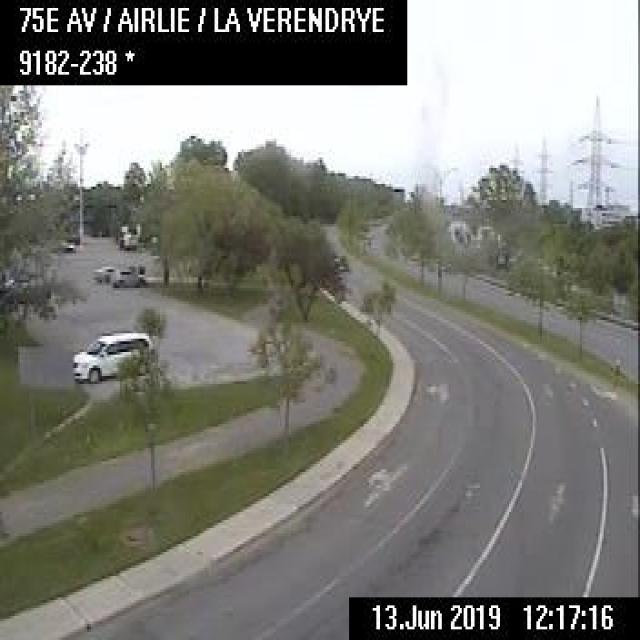vehicle: (73, 329, 151, 381), (110, 267, 146, 288), (90, 262, 114, 281)
